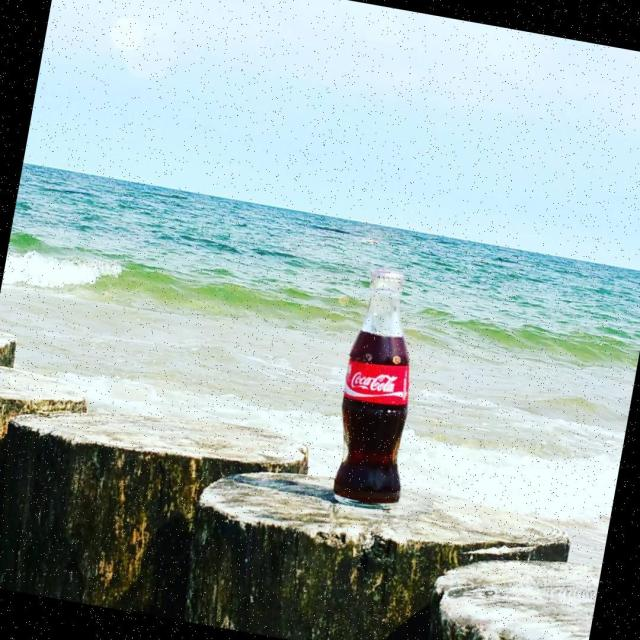coca-cola: (320, 265, 440, 514)
